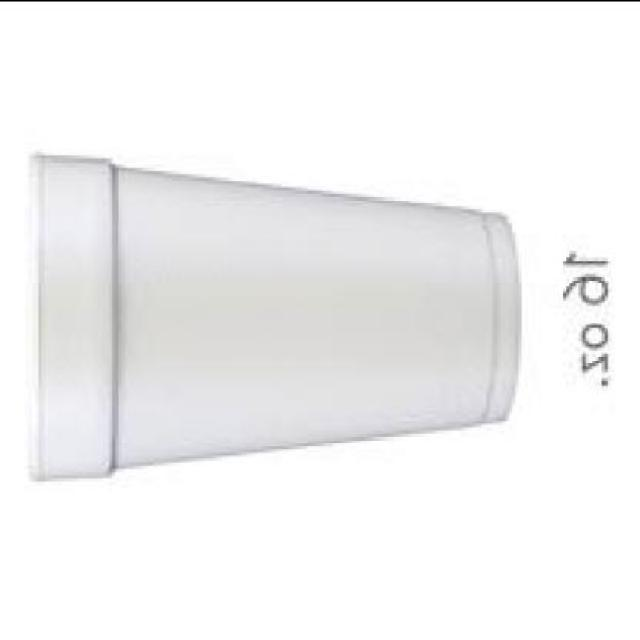PAPER: (29, 151, 525, 474)
